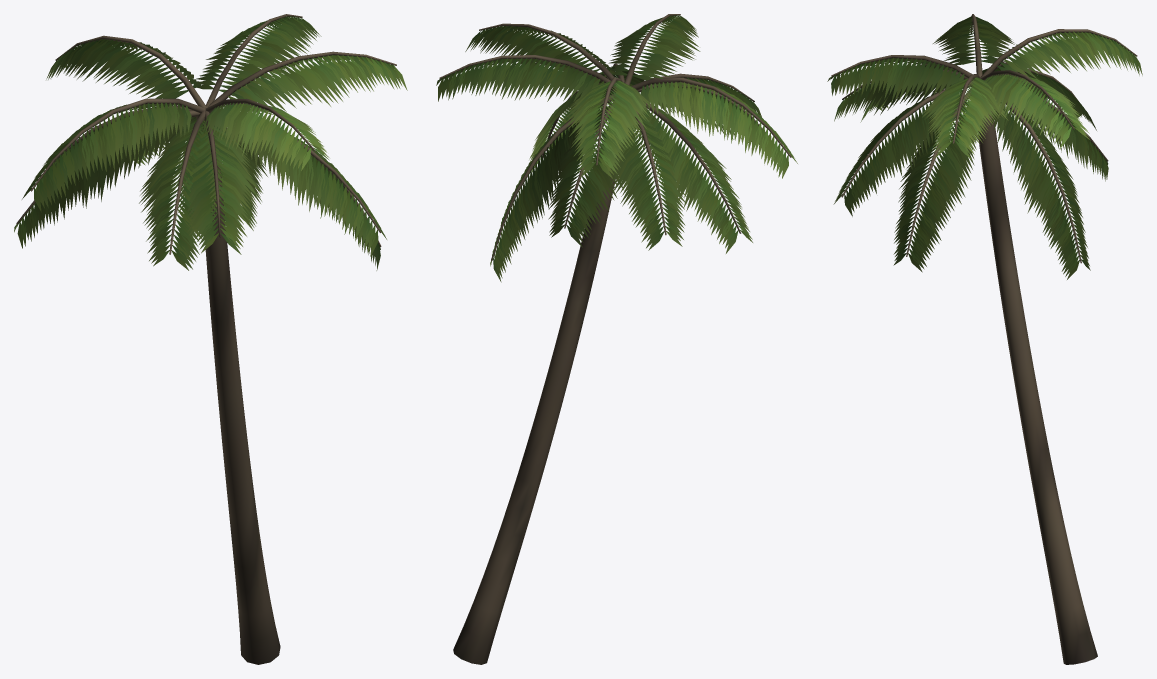
The model's file is palm-b.lod0.glb.
The picture shows the model from 3 angles, left to right: view 1: azimuth 30°, elevation 25°; view 2: azimuth 150°, elevation 25°; view 3: azimuth 270°, elevation 25°; orthographic projection. The views are drawn at different scales.
Bounding box in the file's own units: 5.77 × 10.08 × 5.01.
